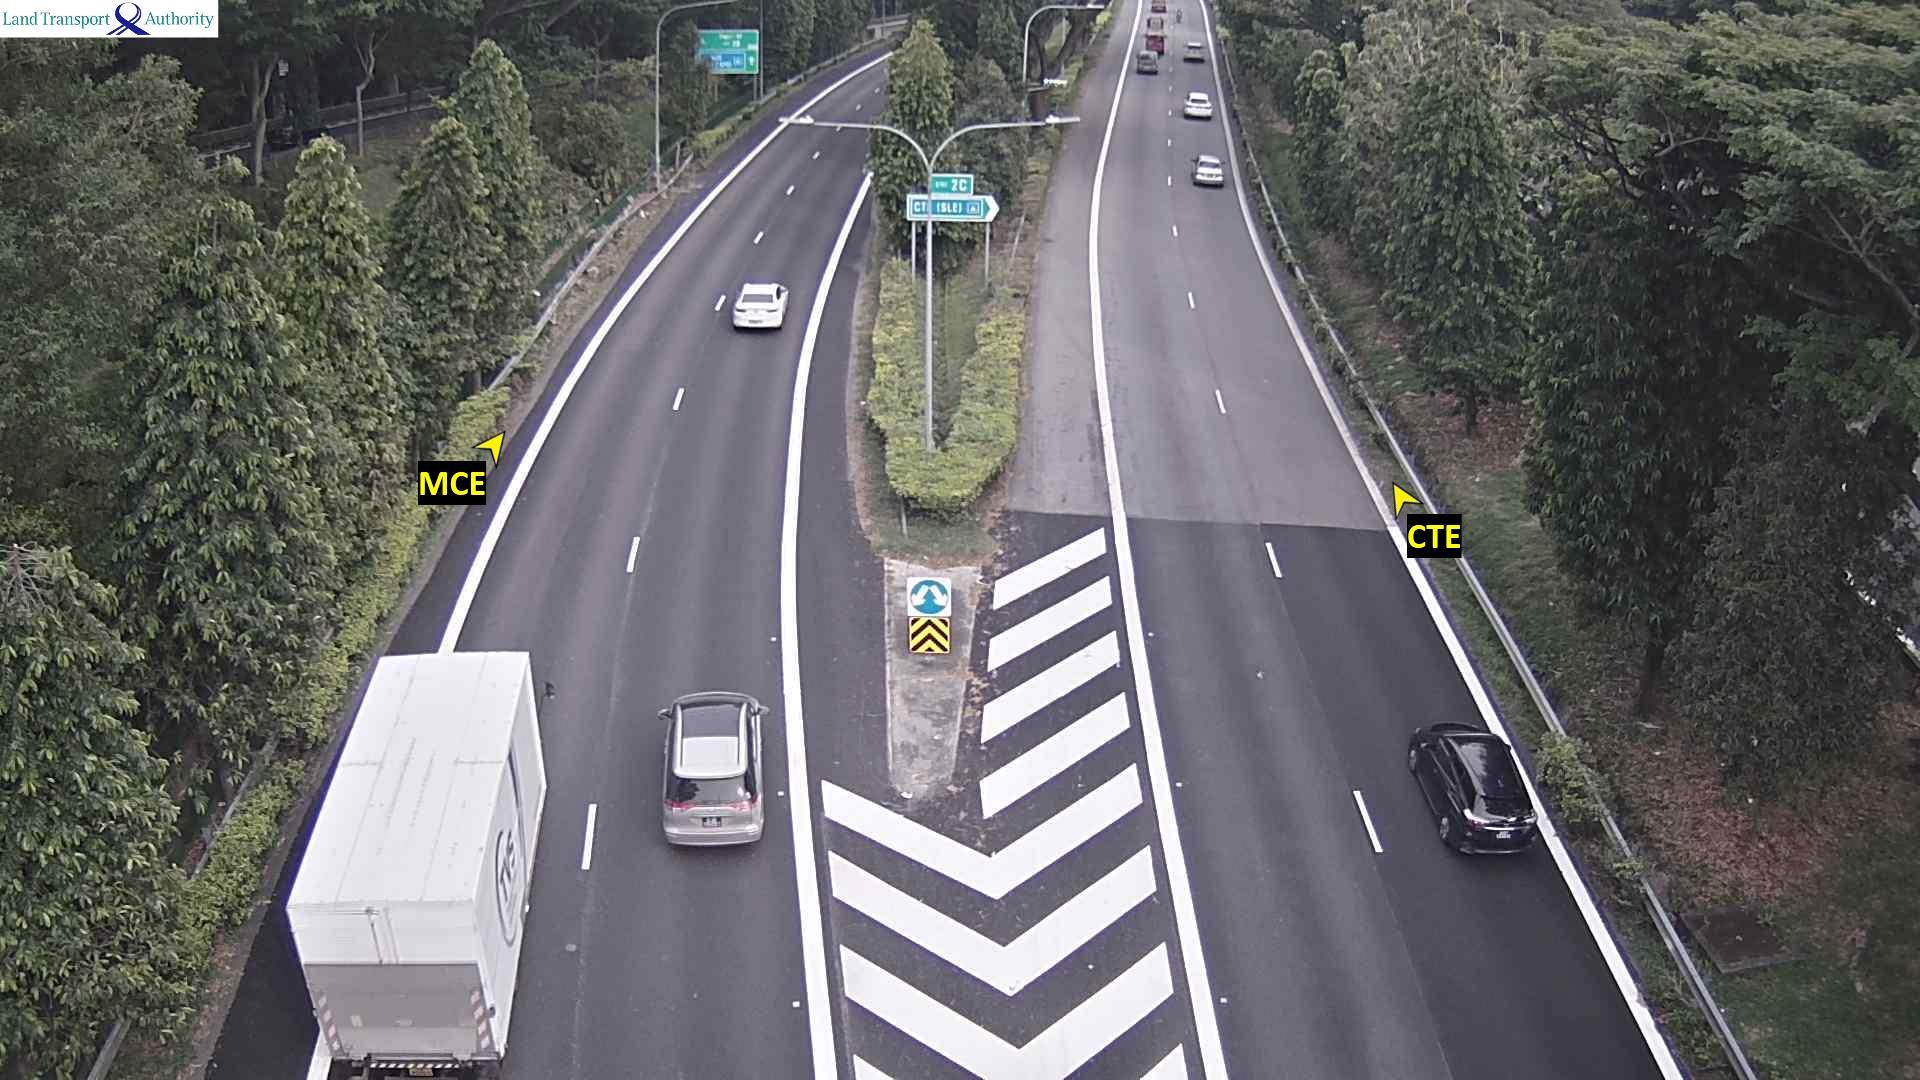cars: (655, 688, 770, 848), (1404, 720, 1538, 857), (731, 281, 789, 331), (1189, 153, 1224, 186), (1182, 91, 1213, 117), (1135, 49, 1158, 73), (1182, 40, 1204, 61), (1145, 32, 1164, 55), (1145, 13, 1166, 32), (1150, 0, 1166, 12)
motorcycle: (1175, 9, 1184, 24)
trucks: (284, 647, 549, 1077)
